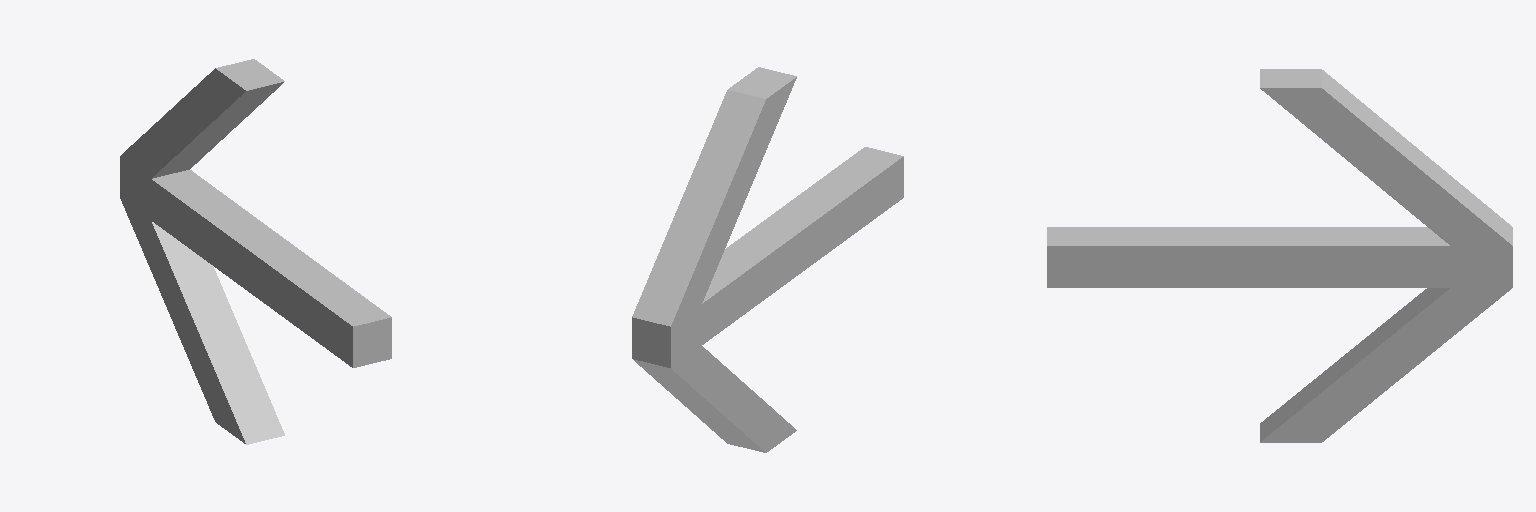
File: Allow.obj
3 renders of one model, left to right at view 1: azimuth 30°, elevation 25°; view 2: azimuth 150°, elevation 25°; view 3: azimuth 270°, elevation 25°, orthographic.
Parts seen in each view (by area): view 1: Cube; view 2: Cube; view 3: Cube.
Part boxes in pixels (left/top/right/bottom): Cube: left=120, top=59, right=391, bottom=444; Cube: left=632, top=67, right=903, bottom=452; Cube: left=1047, top=69, right=1512, bottom=442.
Size of the model in its own units: 0.2227 by 1.93 by 2.31.